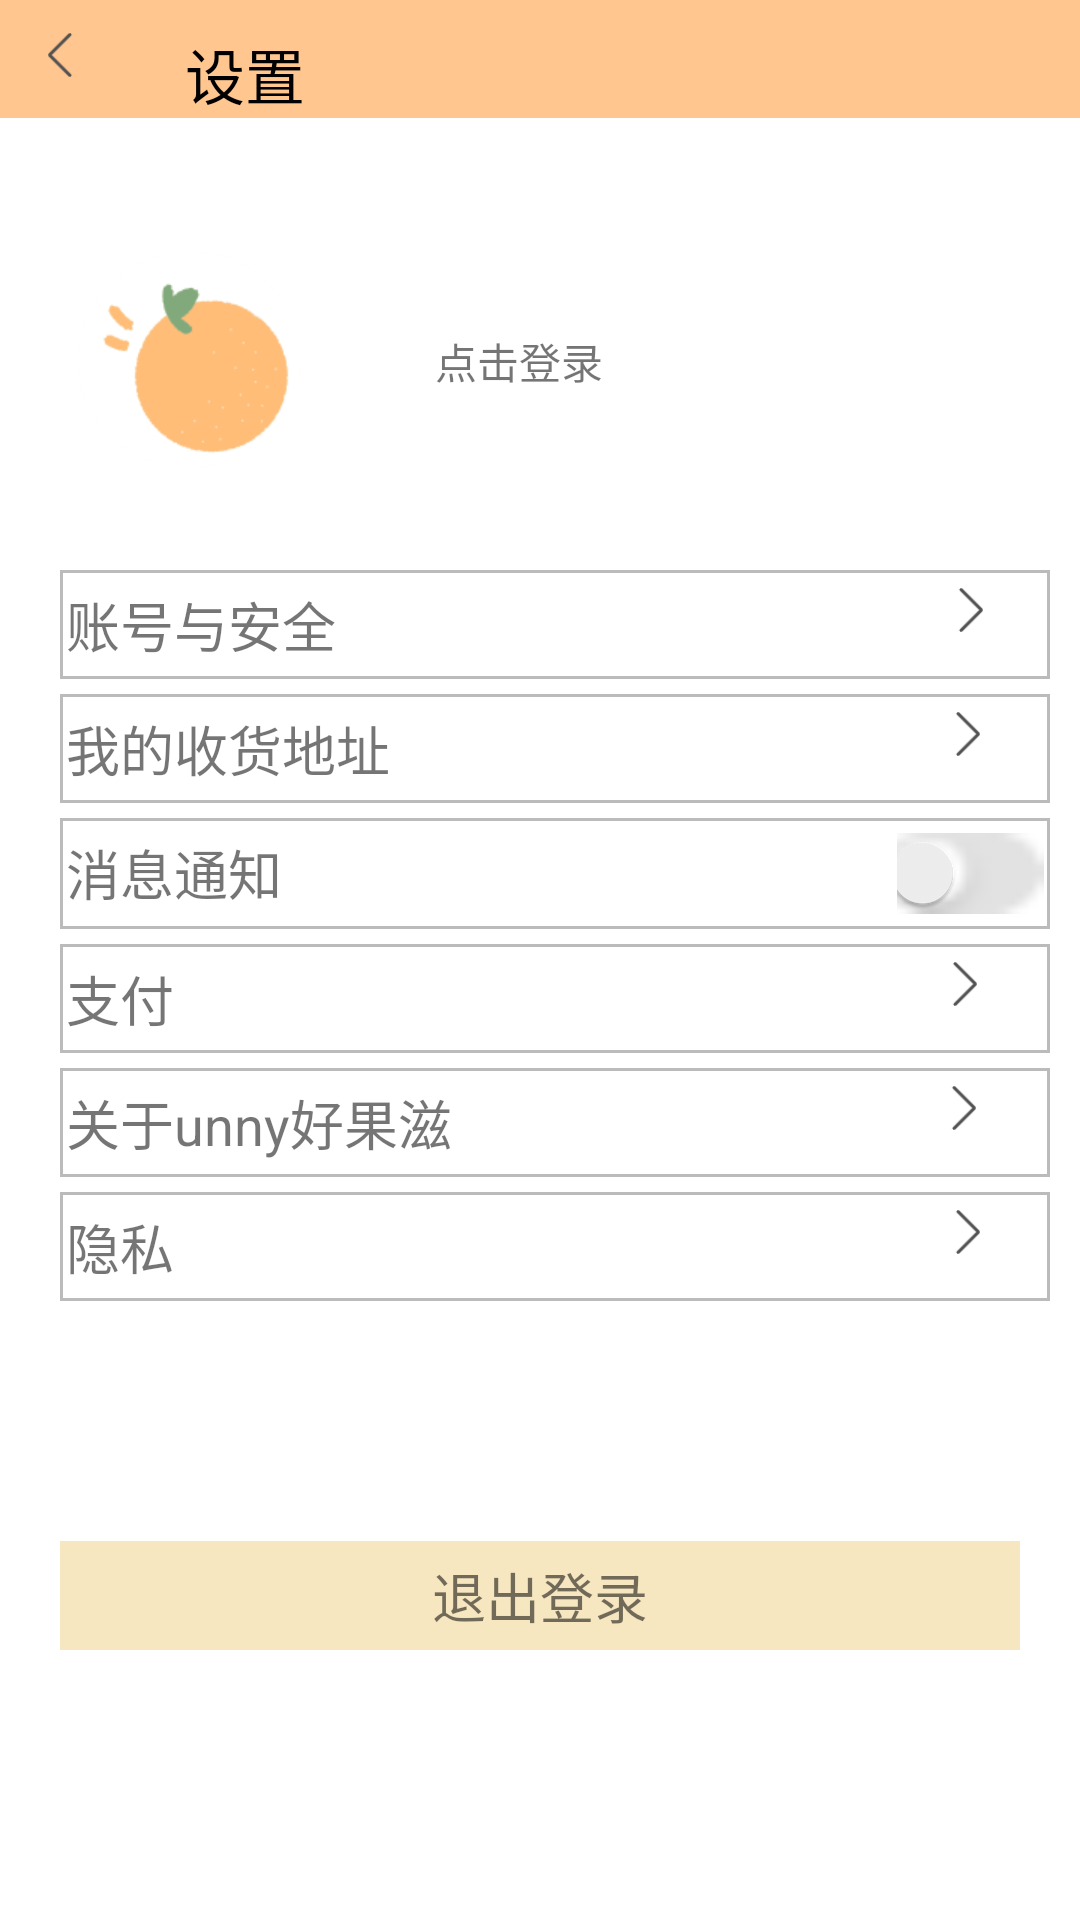

Icons on this 1080×1920 Android screen, each with its box as Rect(x1, y1, x2, y2):
fanhui: Rect(48, 33, 72, 77)
xiay: Rect(959, 588, 983, 632), Rect(956, 712, 980, 756), Rect(953, 962, 977, 1006), Rect(952, 1086, 976, 1130), Rect(956, 1210, 980, 1254)
